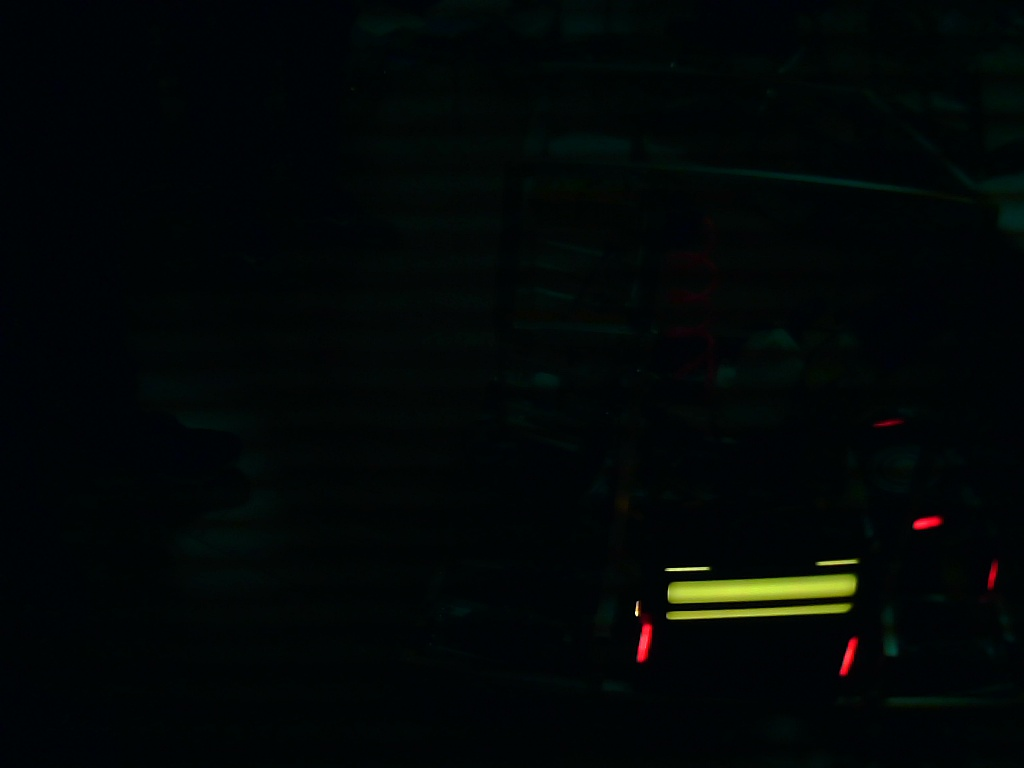lamp: (838, 634, 860, 680), (634, 623, 655, 664), (984, 557, 999, 590)
